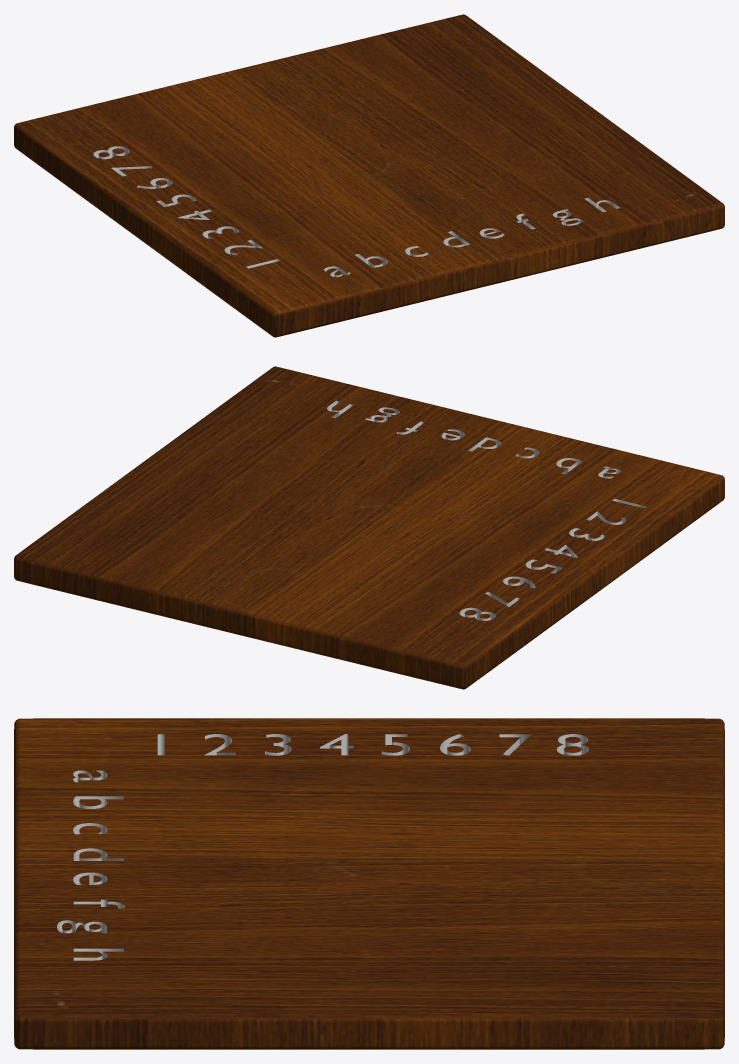
File: chess_base.fbx
The picture shows the model from 3 angles, top to bottom: view 1: azimuth 30°, elevation 25°; view 2: azimuth 150°, elevation 25°; view 3: azimuth 270°, elevation 25°; orthographic projection. The views are drawn at different scales.
Parts seen in each view (by area): view 1: chess_base; view 2: chess_base; view 3: chess_base.
Boxes of the visible parts, x1=… form: chess_base: x1=14, y1=14, x2=724, y2=337; chess_base: x1=14, y1=366, x2=724, y2=689; chess_base: x1=14, y1=718, x2=724, y2=1049.
Bounding box in the file's own units: 725 × 725 × 39.94.
